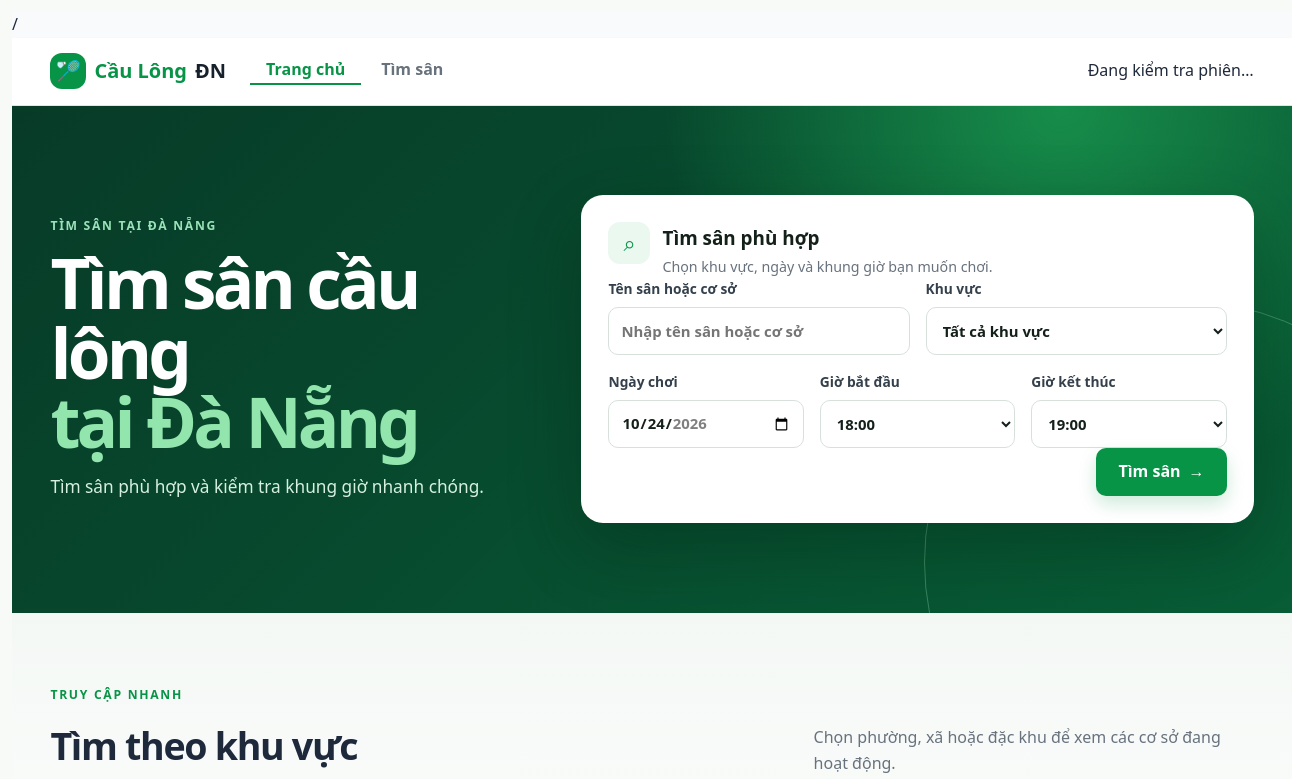
Test: rejects an invalid time range before navigation
The image size is (1292, 779).
Expected: the heading "Tìm sân cầu lông" is shown, [50,235,418,468]
Select "18:00" in the dropdown labelled "Giờ kết thúc" at (1129, 424), box [1031,400,1227,448]
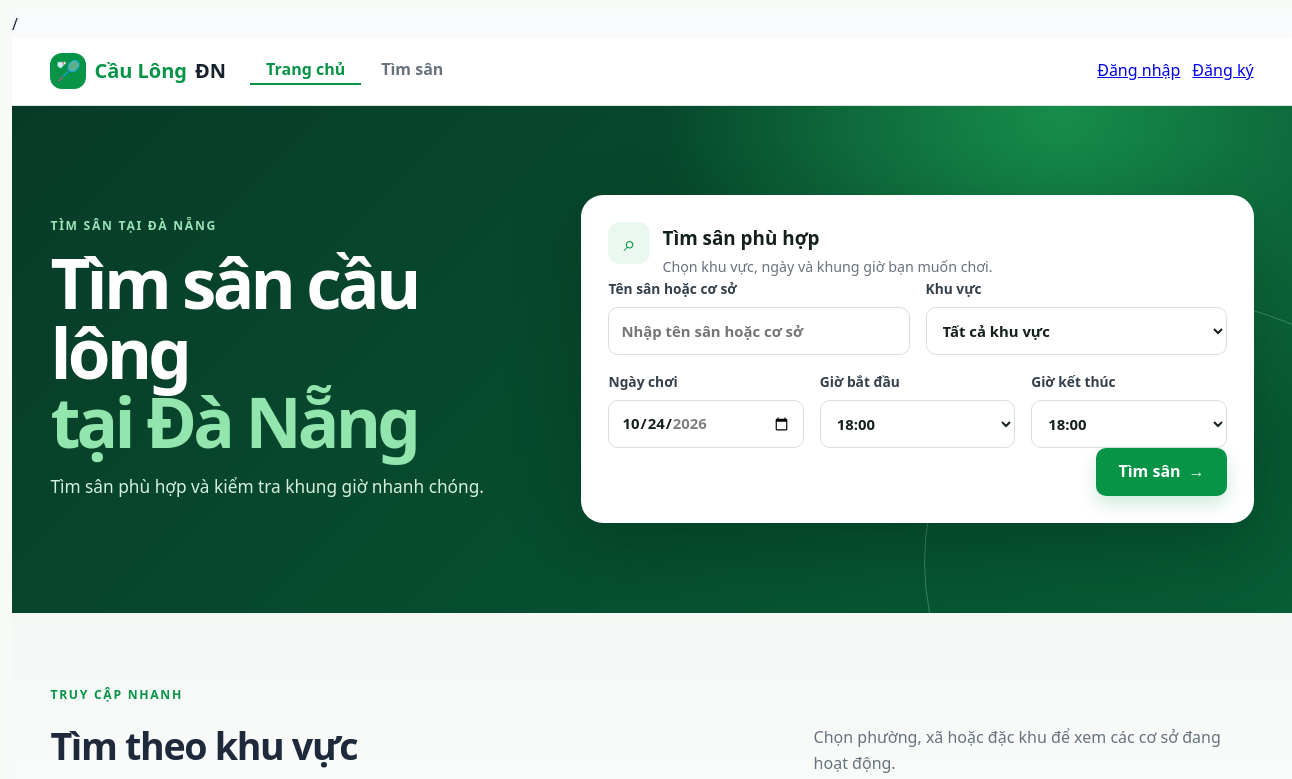
Click the button "Tìm sân →" at (1162, 472), box [1096,448,1227,496]
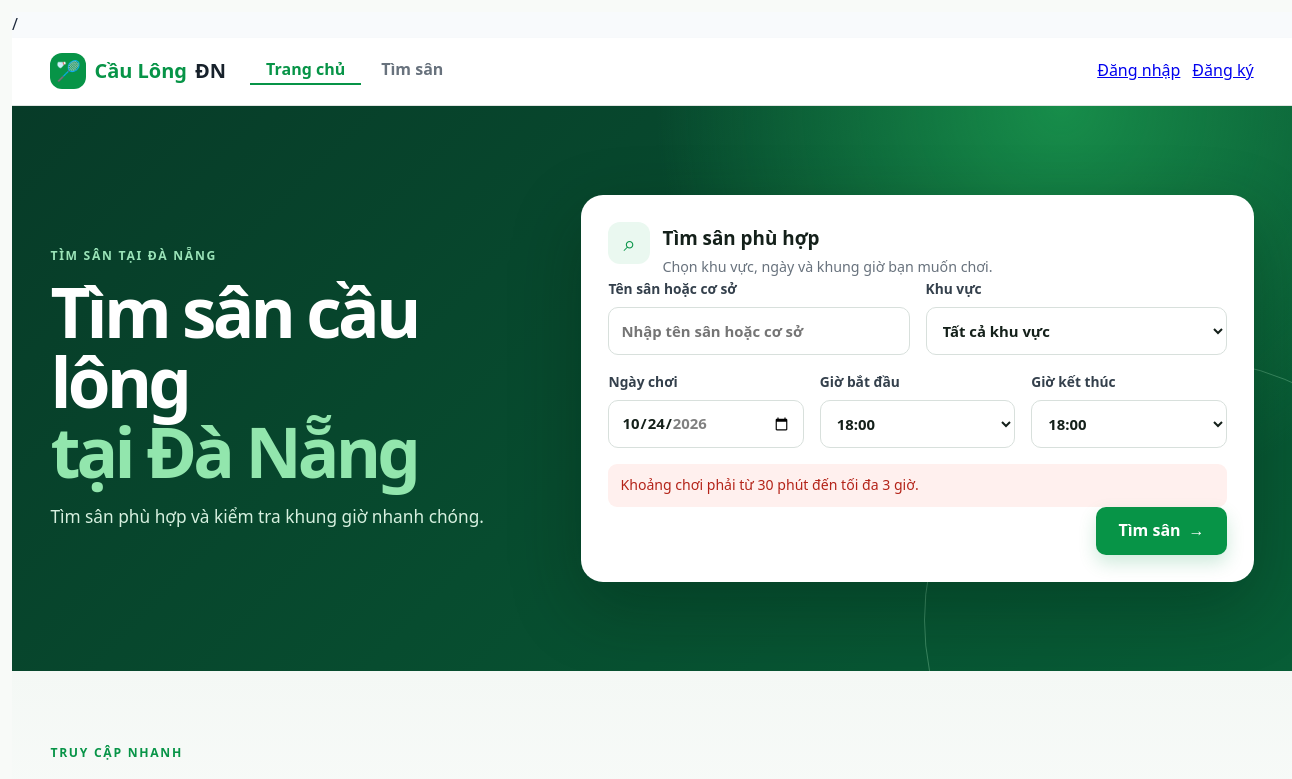
Expected: the text with test id "home-location" reads "/", [12,13,18,35]
Expected: the message shows "30 phút", [620,475,919,494]
